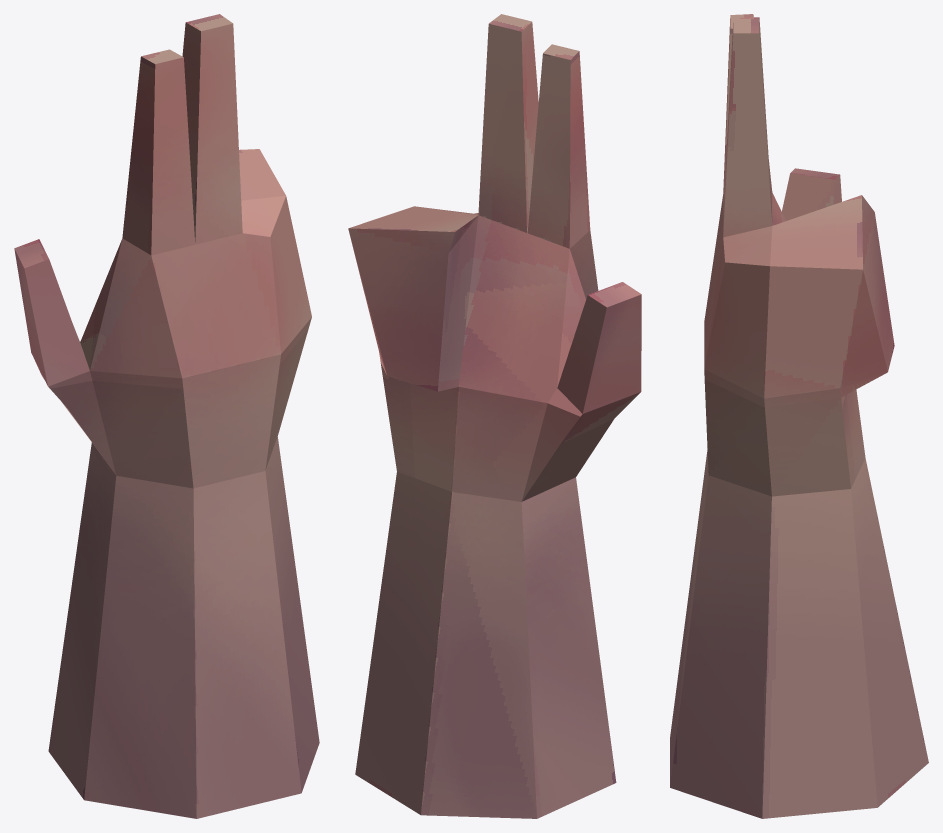
Rendered from fingergun.gltf.
The picture shows the model from 3 angles, left to right: view 1: azimuth 30°, elevation 25°; view 2: azimuth 150°, elevation 25°; view 3: azimuth 270°, elevation 25°; orthographic projection. The views are drawn at different scales.
Parts seen in each view (by area): view 1: Cylinder.001; view 2: Cylinder.001; view 3: Cylinder.001.
Boxes of the visible parts, <box> form: Cylinder.001: <box>14,14,319,818</box>; Cylinder.001: <box>348,14,641,818</box>; Cylinder.001: <box>670,14,928,818</box>.
Bounding box in the file's own units: 1.87 × 4.84 × 1.54.
Materials: 1 (1 with a texture image).
